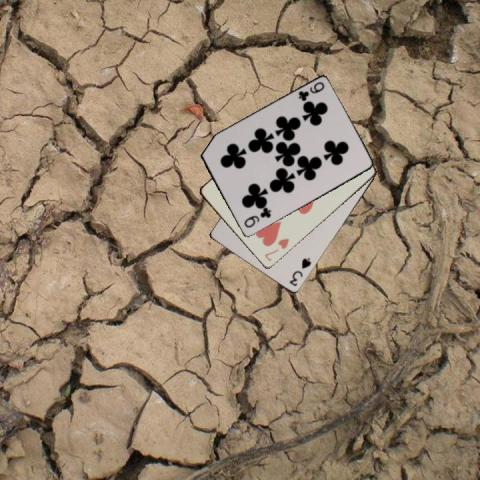3s: (286, 255, 312, 288)
7h: (261, 235, 291, 263)
9c: (295, 79, 326, 103), (241, 206, 272, 229)
